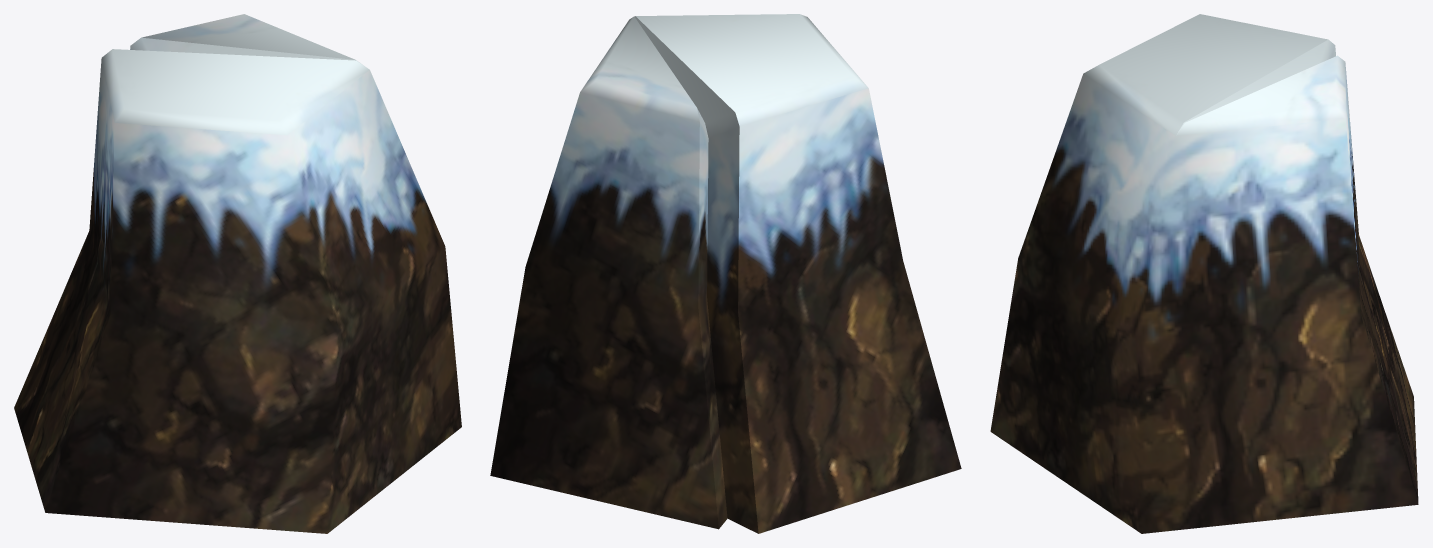
File: mc_env_snow mountain_mountain_02_v02.FBX
3 renders of one model, left to right at view 1: azimuth 30°, elevation 25°; view 2: azimuth 150°, elevation 25°; view 3: azimuth 270°, elevation 25°, orthographic. The views are drawn at different scales.
Parts seen in each view (by area): view 1: Cylinder006; view 2: Cylinder006; view 3: Cylinder006.
Boxes of the visible parts, box(x1,y1,x2,y2) form: Cylinder006: box(14, 14, 461, 533); Cylinder006: box(490, 14, 961, 533); Cylinder006: box(990, 14, 1418, 533).
Size of the model in its own units: 728 by 646 by 677.
